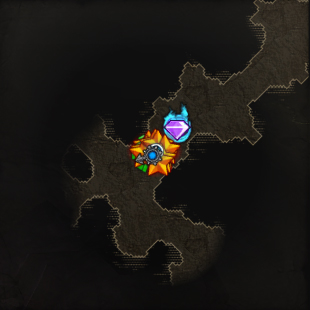Urushi: (166, 104, 192, 142)
